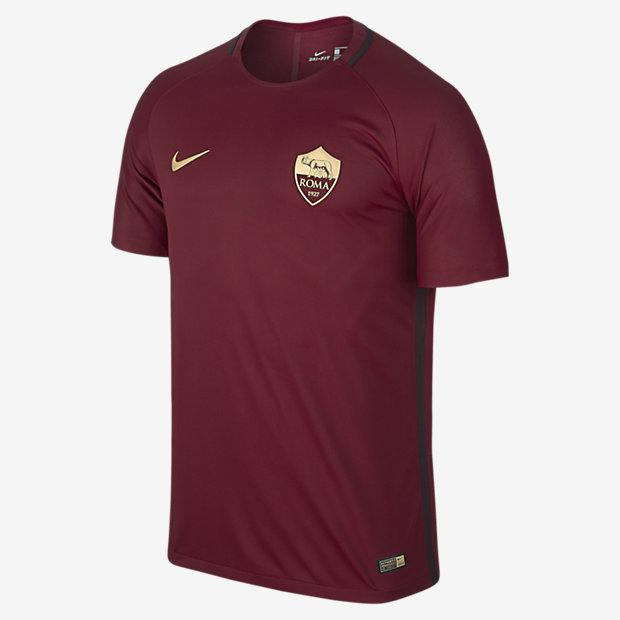teeshirt: (88, 7, 530, 620)
